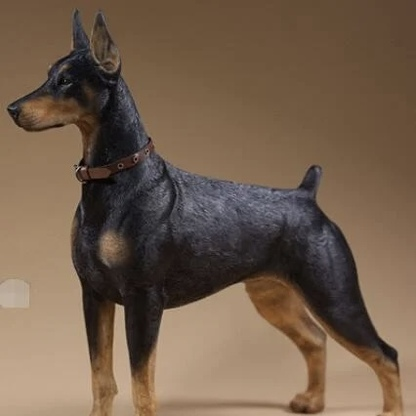doberman: (10, 7, 416, 414)
